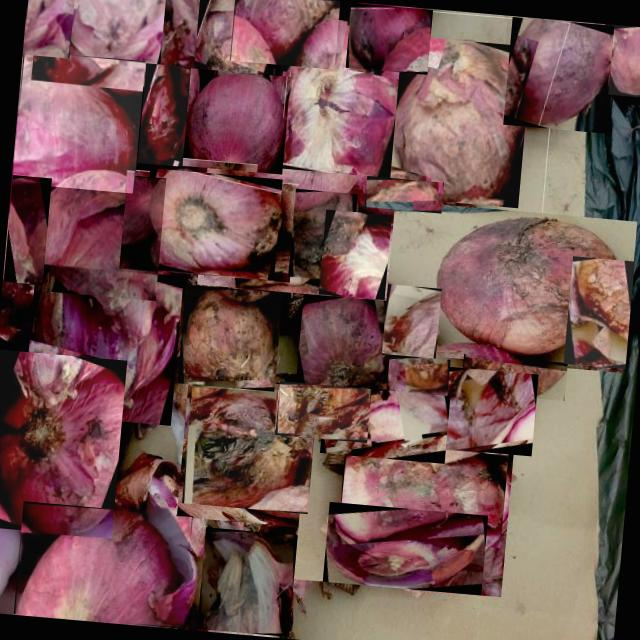healthy: (14, 501, 193, 628), (182, 68, 290, 174)
rotten: (23, 263, 184, 425), (388, 35, 532, 208), (0, 349, 126, 538), (271, 14, 403, 178), (21, 167, 166, 300), (12, 50, 145, 193), (338, 438, 508, 548), (182, 382, 318, 514), (141, 168, 282, 280), (322, 502, 488, 595), (503, 17, 614, 134), (399, 363, 538, 456), (29, 0, 166, 91), (177, 284, 282, 391), (197, 526, 297, 636), (295, 294, 395, 399), (320, 385, 450, 464), (563, 256, 634, 369), (229, 0, 340, 69), (192, 0, 274, 84), (318, 210, 392, 300), (288, 188, 357, 282), (346, 2, 432, 74), (137, 63, 196, 167), (275, 380, 371, 442), (4, 174, 52, 284), (460, 354, 568, 401), (381, 284, 441, 359), (384, 354, 450, 419), (22, 0, 76, 58), (600, 24, 640, 99), (364, 176, 444, 213)
